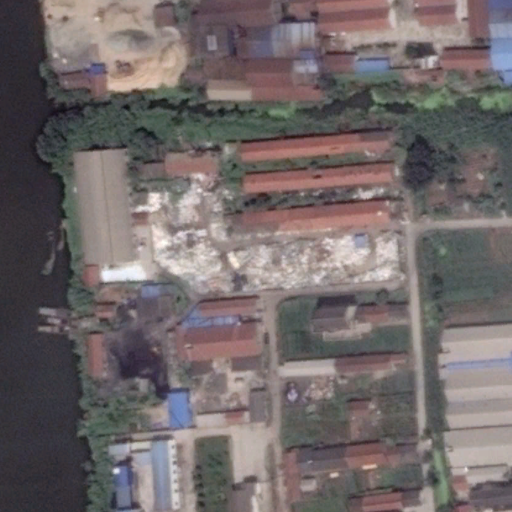msw: (148, 176, 406, 295)
